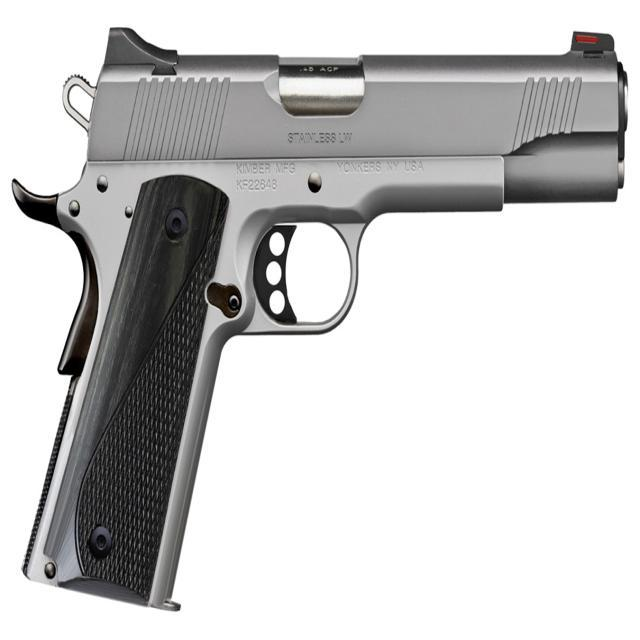Pistol: (7, 0, 640, 624)
